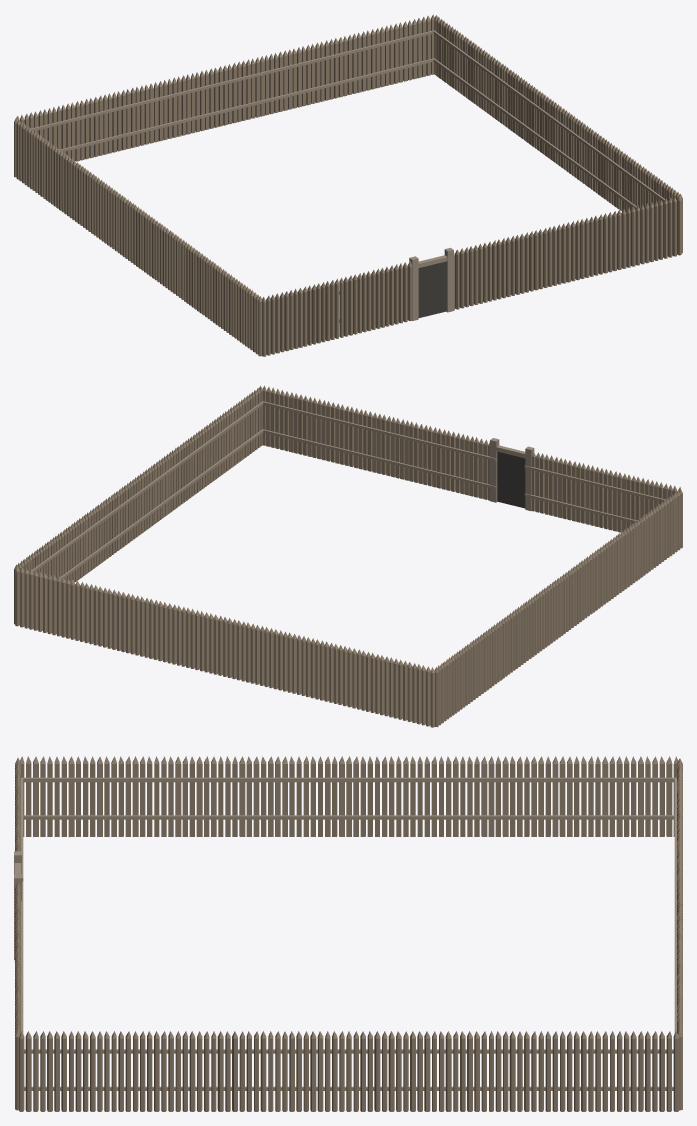
File: first_fort_dearborn_pickets_inner__first_fort_1803.glb
The picture shows the model from 3 angles, top to bottom: view 1: azimuth 30°, elevation 25°; view 2: azimuth 150°, elevation 25°; view 3: azimuth 270°, elevation 25°; orthographic projection. The views are drawn at different scales.
Visible parts, largest first — view 1: first_fort_dearborn_pickets_inner__first_fort_1803; view 2: first_fort_dearborn_pickets_inner__first_fort_1803; view 3: first_fort_dearborn_pickets_inner__first_fort_1803.
Boxes of the visible parts, x1,y1,x2,y2 form: first_fort_dearborn_pickets_inner__first_fort_1803: (14,14,682,356); first_fort_dearborn_pickets_inner__first_fort_1803: (14,385,682,727); first_fort_dearborn_pickets_inner__first_fort_1803: (14,756,682,1111).
Size of the model in its own units: 27.56 by 3.8 by 28.1.
